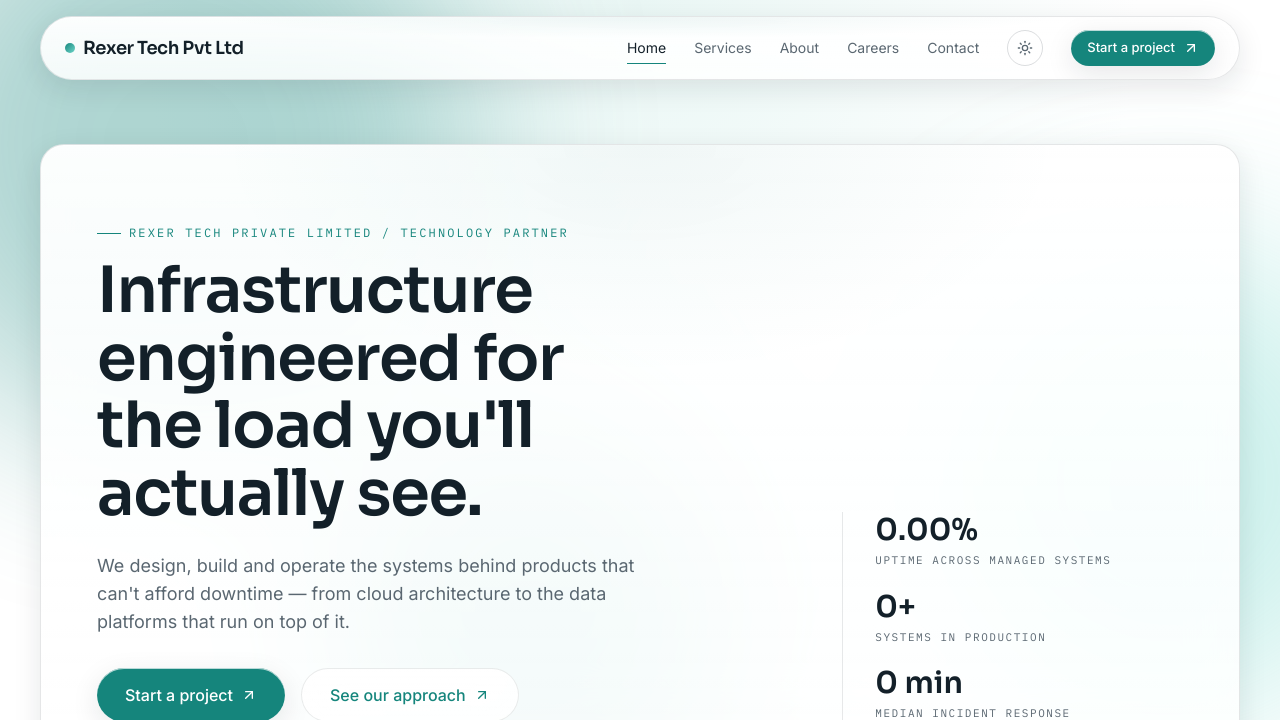
routing › moves focus into main after a navigation
The image size is (1280, 720).
Click the link to "/about".
click(799, 48)  # box [780,34,819,62]
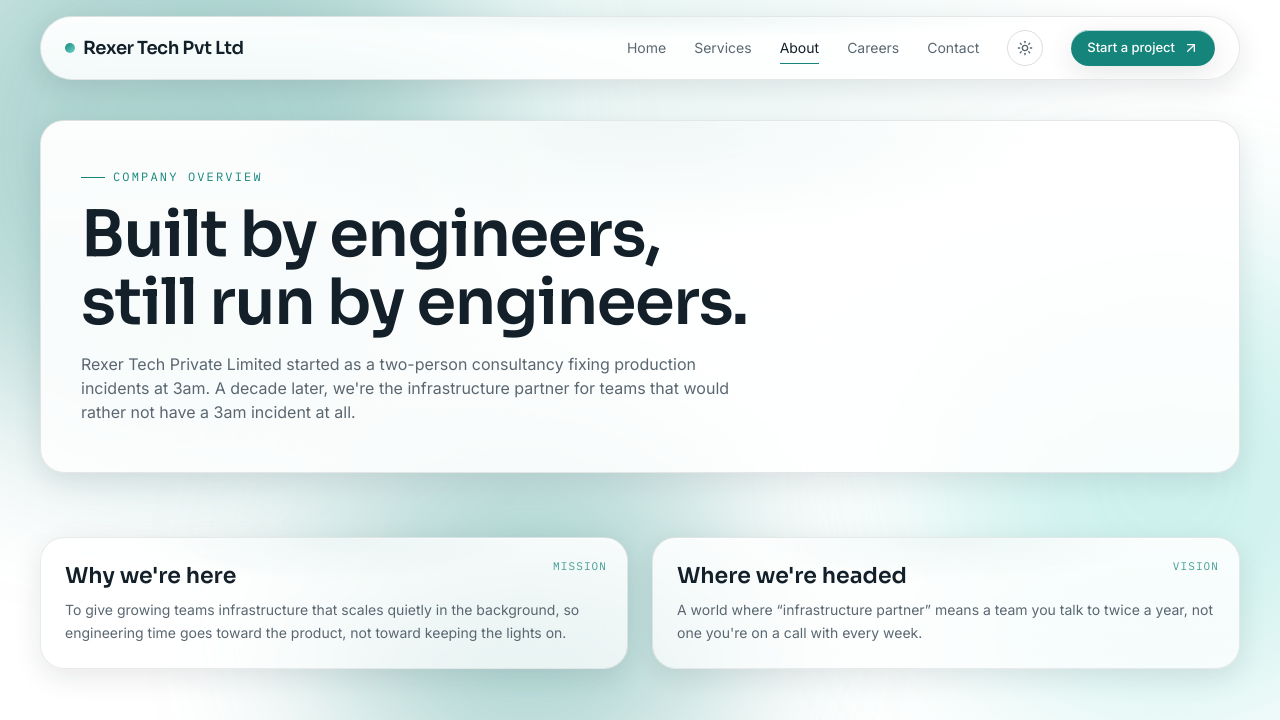
Expected: the heading "Built by engineers, still run by engineers." is shown, [81,201,753,336]
